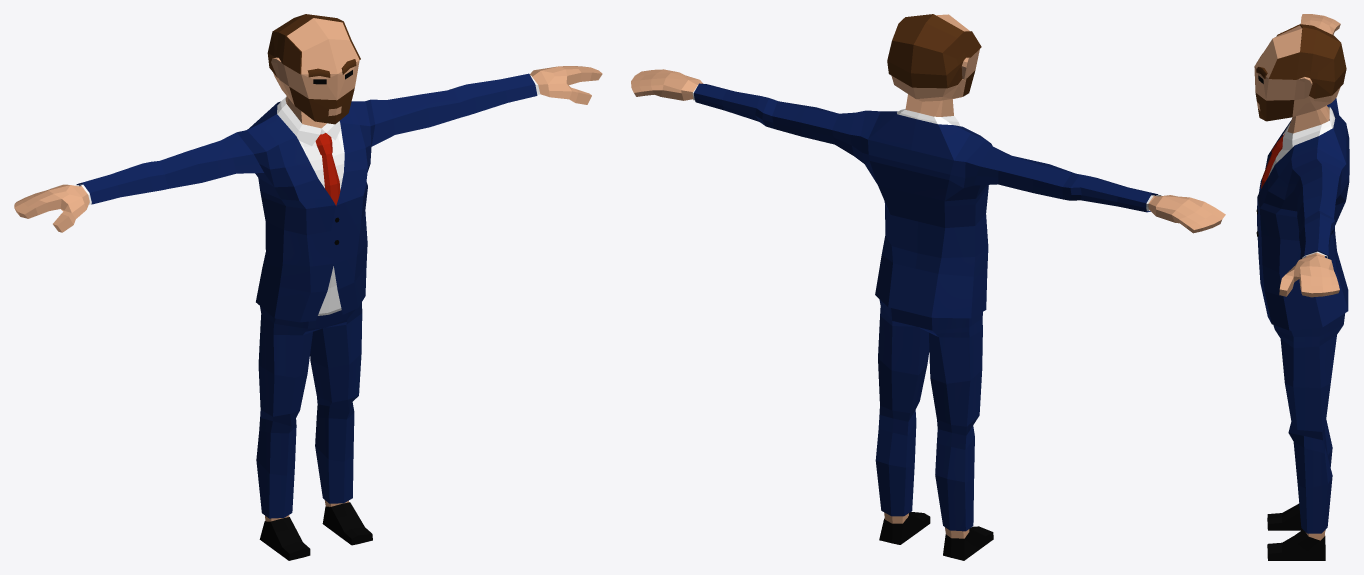
Rendered from NPC_1.fbx.
3 views of the same model, side by side, from view 1: azimuth 30°, elevation 25°; view 2: azimuth 150°, elevation 25°; view 3: azimuth 270°, elevation 25° (orthographic). The views are drawn at different scales.
Parts seen in each view (by area): view 1: Personaje; view 2: Personaje; view 3: Personaje.
Part boxes in pixels (x1=…): Personaje: x1=14, y1=14, x2=602, y2=560; Personaje: x1=631, y1=14, x2=1225, y2=560; Personaje: x1=1254, y1=14, x2=1349, y2=560.
Size of the model in its own units: 215 by 184 by 30.94.
